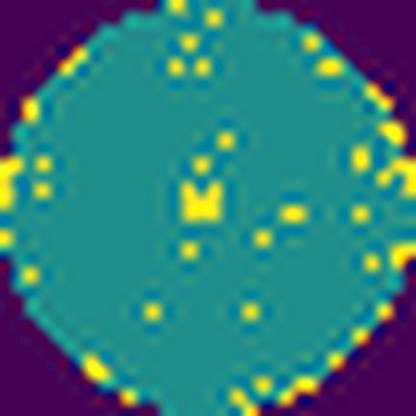Center: (181, 181, 226, 225)
